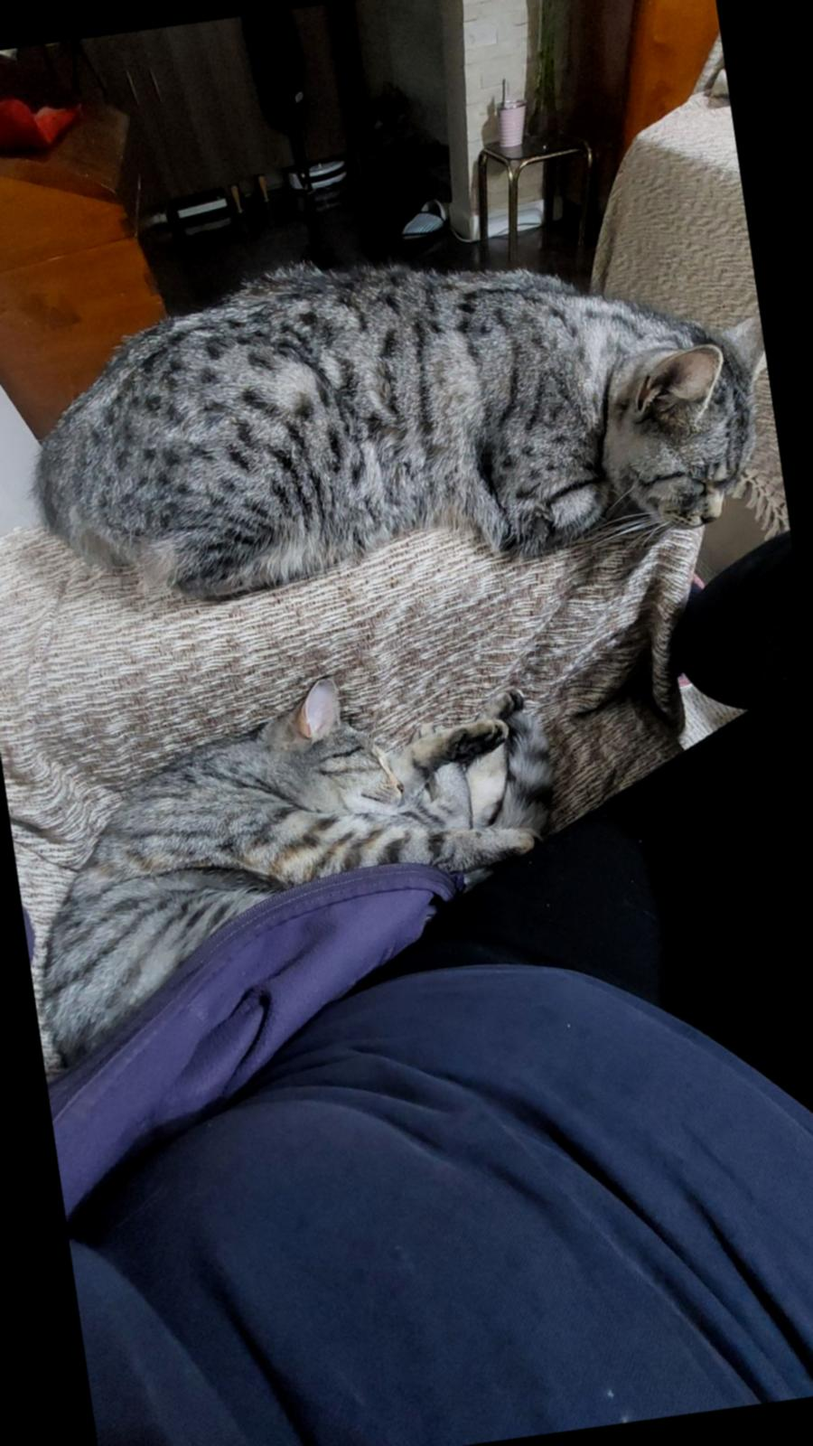macka: (11, 202, 789, 623), (5, 647, 581, 1083)
